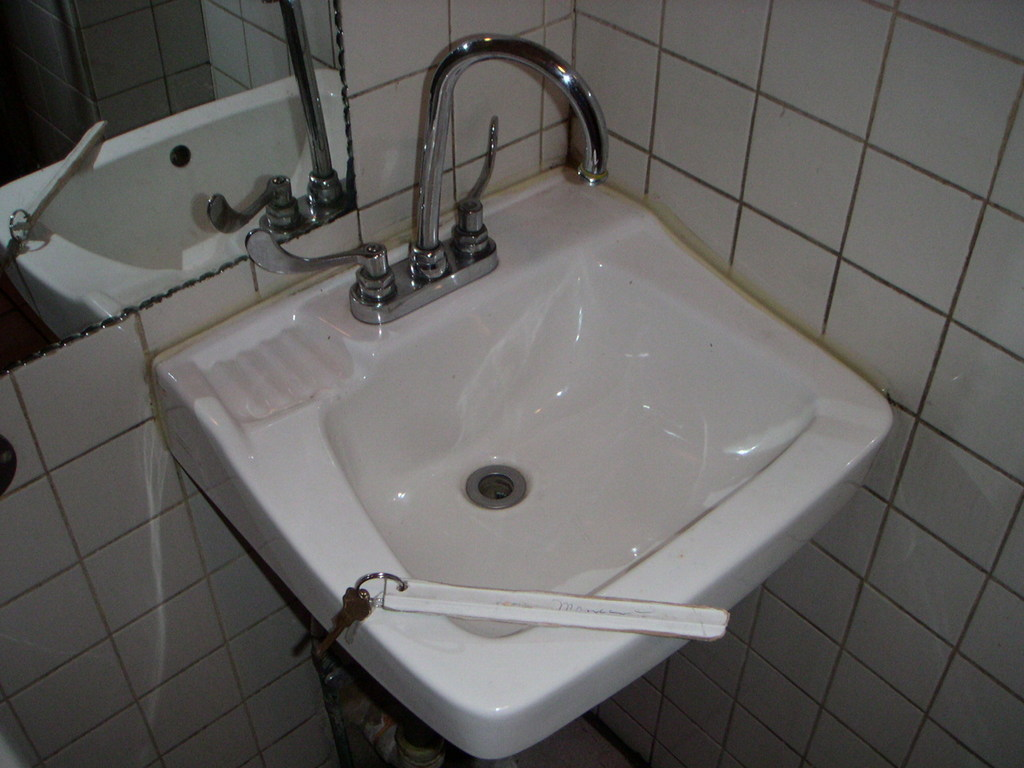tap: (407, 33, 608, 277)
